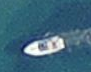ship: (20, 34, 71, 58)
